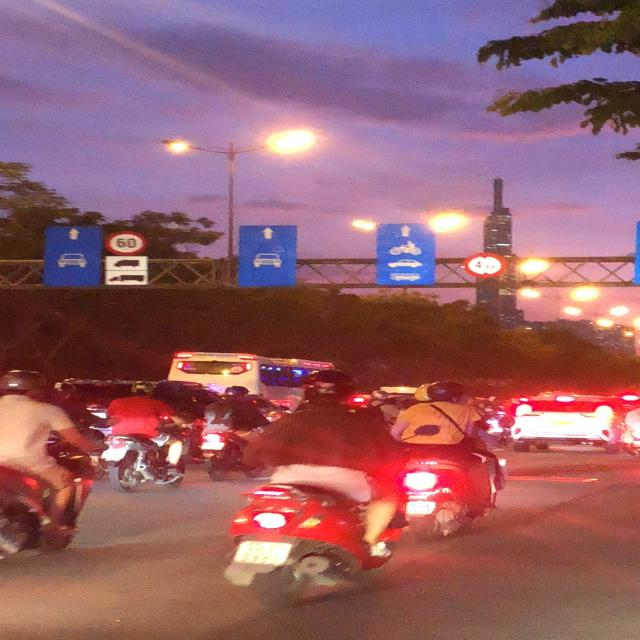Bien bao han che chieu cao: (459, 251, 509, 284)
Bien bao toc do toi da cho phep: (101, 228, 149, 257)
